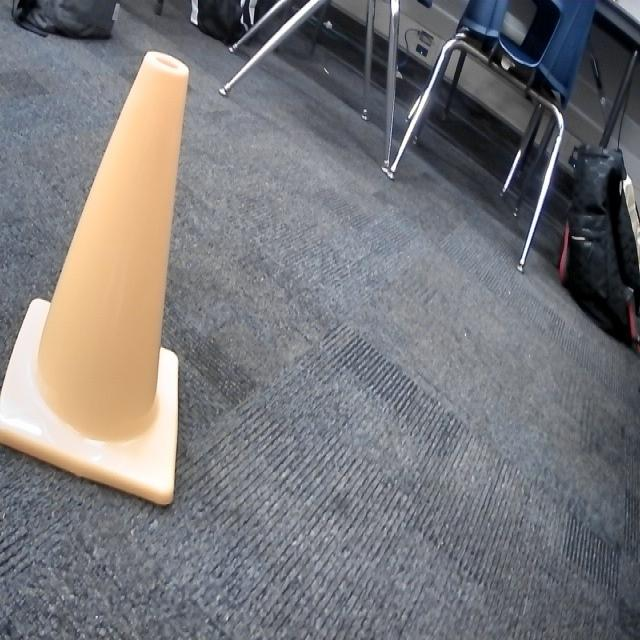cone: (0, 45, 191, 512)
